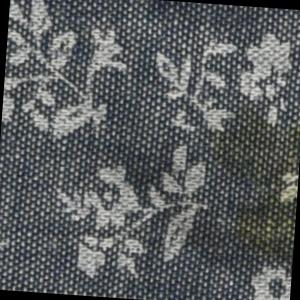Oil Stain: (200, 96, 300, 266)
